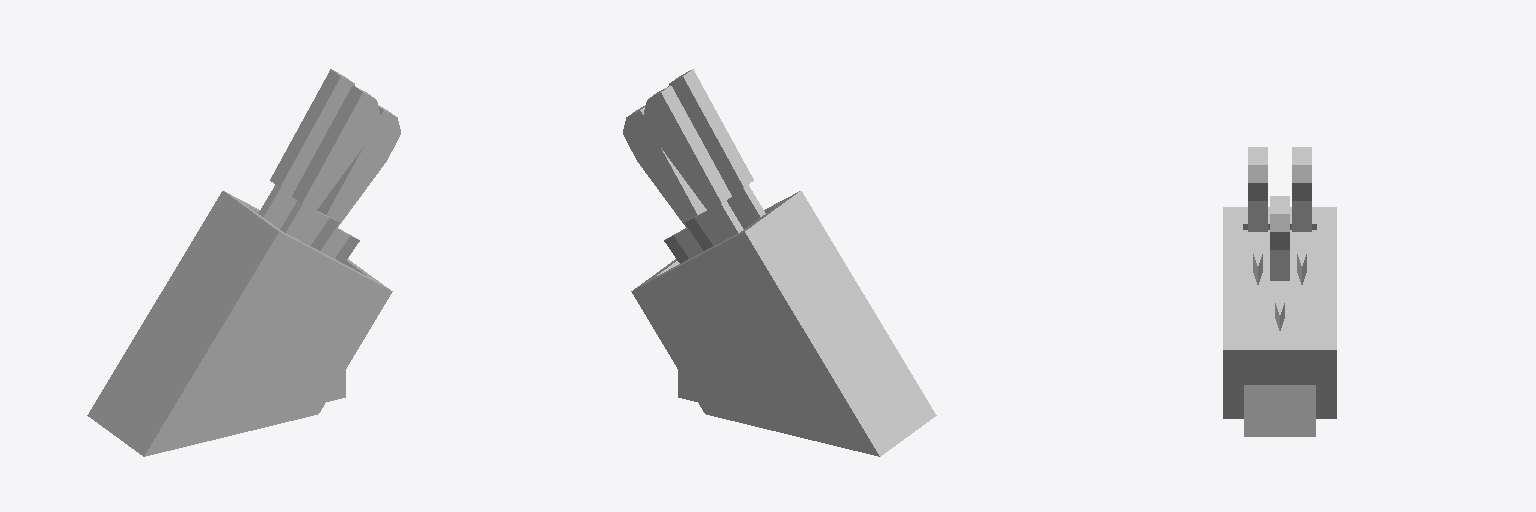
The model's file is knife-block.obj.
3 renders of one model, left to right at view 1: azimuth 30°, elevation 25°; view 2: azimuth 150°, elevation 25°; view 3: azimuth 270°, elevation 25°, orthographic.
Parts seen in each view (by area): view 1: knife-block, cooking-knife; view 2: knife-block, cooking-knife; view 3: knife-block, cooking-knife.
Boxes of the visible parts, box(x1,y1,x2,y2) form: knife-block: box(87, 191, 392, 456); cooking-knife: box(258, 69, 400, 263); knife-block: box(631, 191, 936, 456); cooking-knife: box(623, 69, 765, 263); knife-block: box(1223, 207, 1336, 436); cooking-knife: box(1248, 147, 1311, 330).
Bounding box in the file's own units: 0.6359 × 0.6624 × 0.2218.